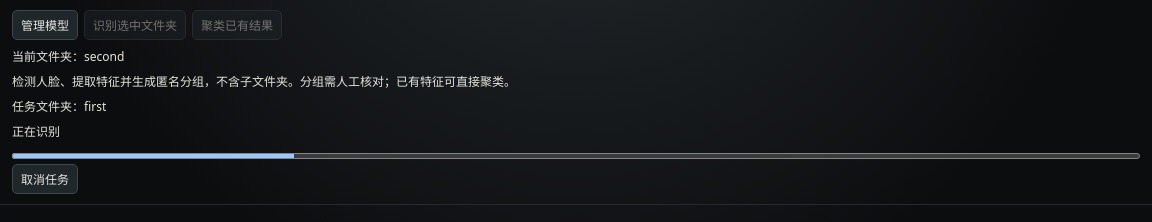
Scenario: keeps a running task scoped to its original folder and cancels by operation id
This screenshot has width=1152, height=222.
Expected: the button "识别选中文件夹" is disabled, 84,10 -> 186,40
Click the button "取消任务" at (45, 179), box 12,164 -> 78,194
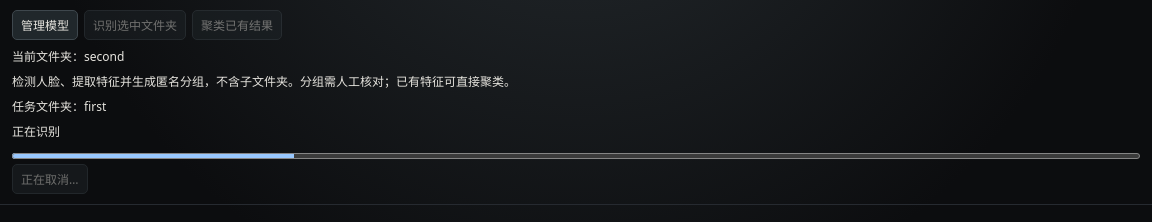
Expected: the button "正在取消…" is disabled, 12,164 -> 88,194
